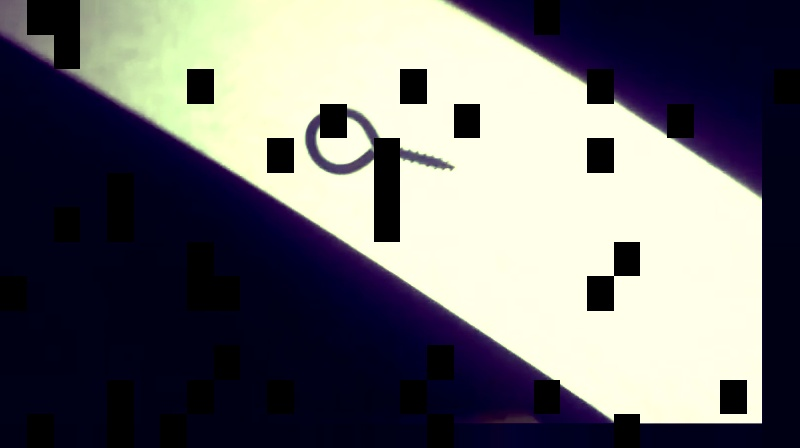O001: (302, 104, 460, 179)
